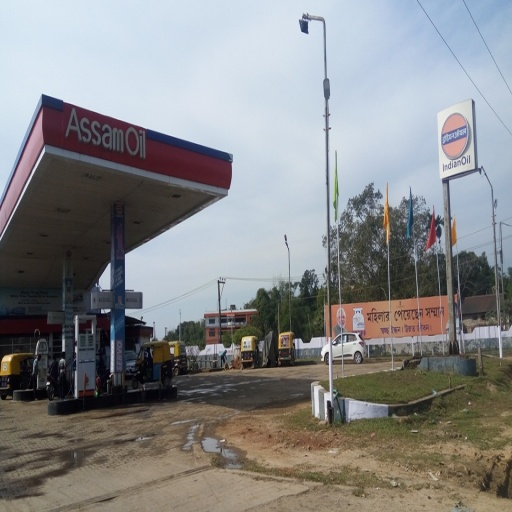roof: (4, 92, 234, 268)
